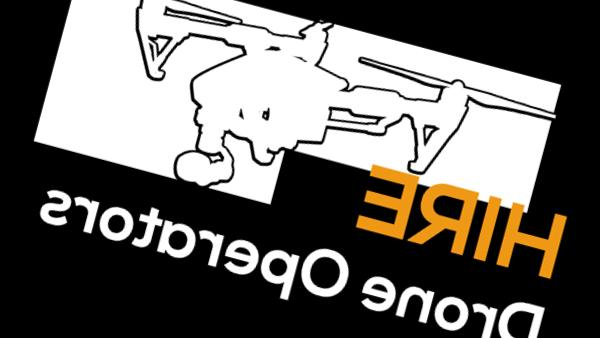drone: (32, 0, 574, 228)
